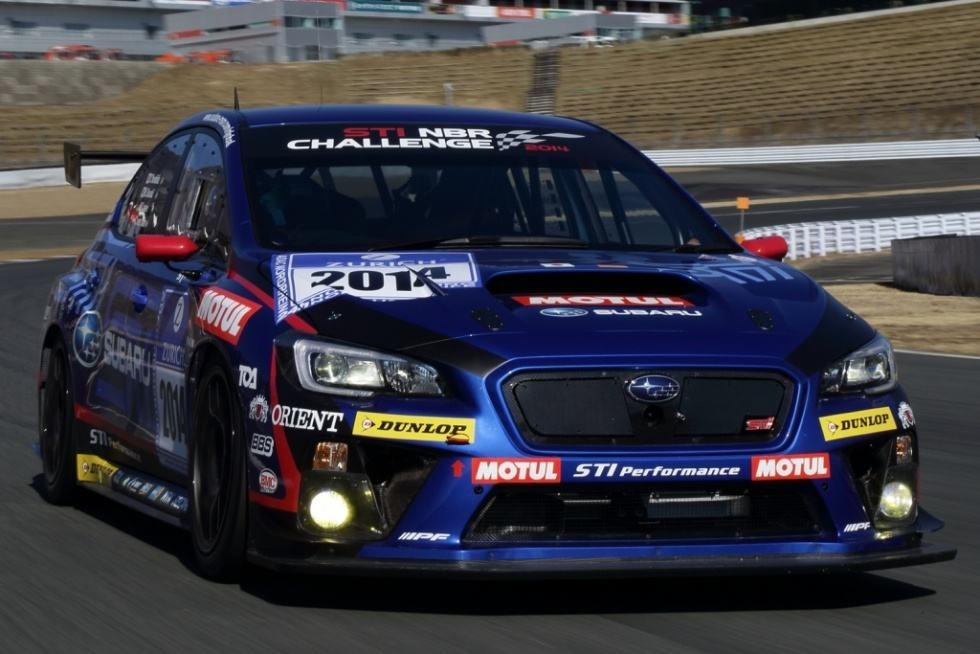racing car: (34, 96, 937, 601)
